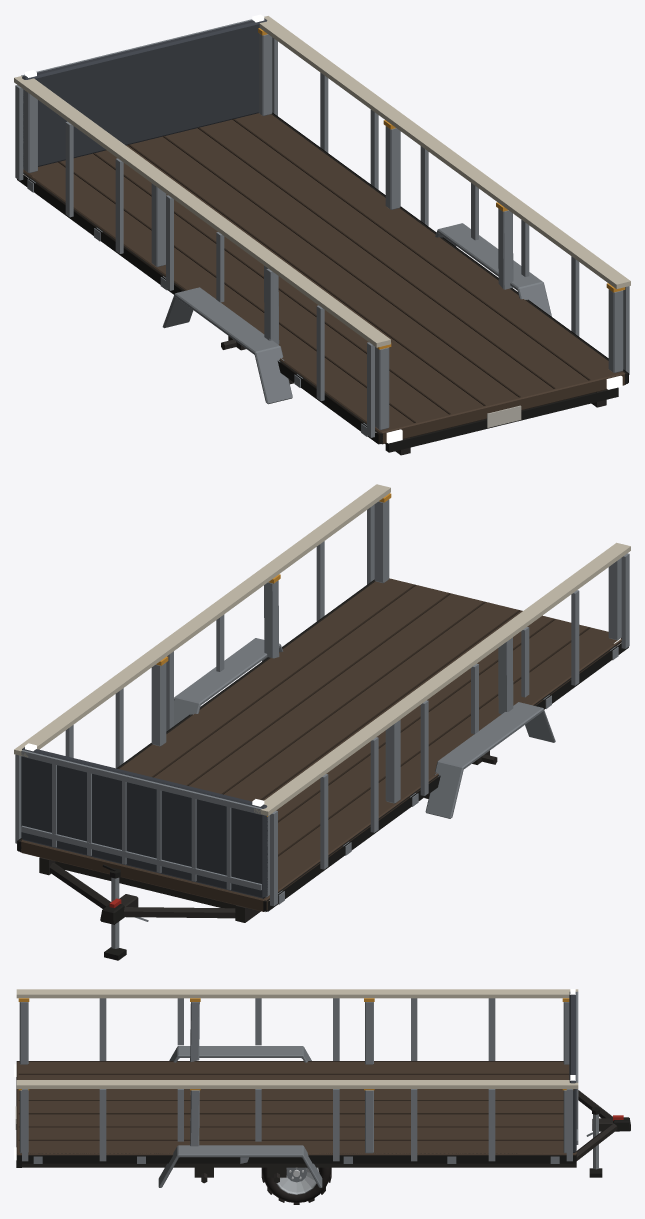
File: HeavyHauler_LoggingRig.glb
The picture shows the model from 3 angles, top to bottom: view 1: azimuth 30°, elevation 25°; view 2: azimuth 150°, elevation 25°; view 3: azimuth 270°, elevation 25°; orthographic projection. The views are drawn at different scales.
Parts seen in each view (by area): view 1: Bed, Body; view 2: Bed, Body, Hitch; view 3: Bed, Body, Wheel, Hitch.
Part boxes in pixels (<box>): Bed: <box>14,16,630,444</box>; Body: <box>162,223,618,455</box>; Bed: <box>14,484,630,911</box>; Body: <box>39,638,555,922</box>; Hitch: <box>49,863,235,960</box>; Bed: <box>16,989,578,1163</box>; Body: <box>15,1046,576,1187</box>; Wheel: <box>261,1167,331,1204</box>; Hitch: <box>576,1090,630,1177</box>.
Bounding box in the file's own units: 12 × 8.59 × 28.64.
